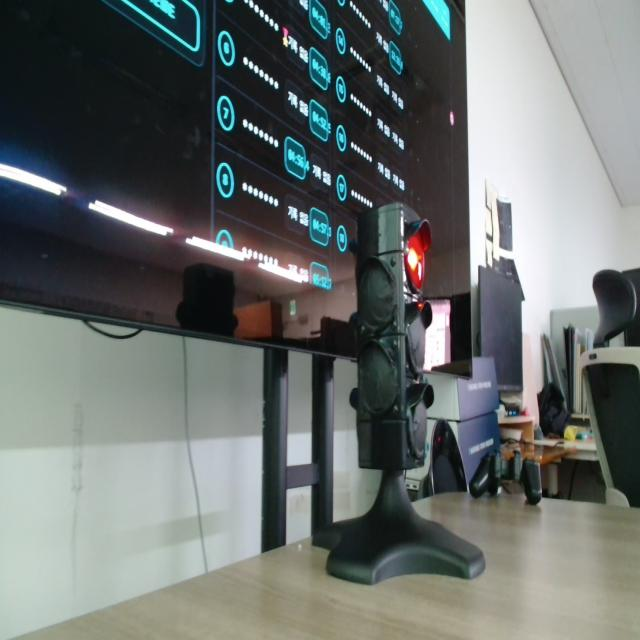red_light: (405, 221, 431, 293), (406, 235, 423, 292)
